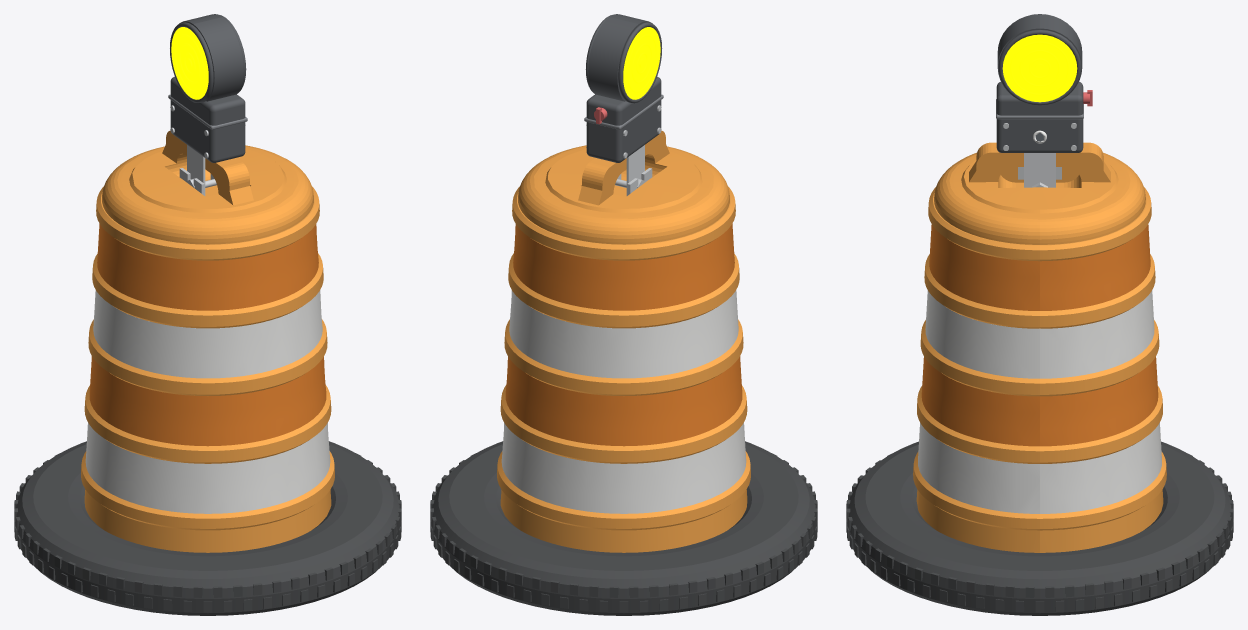
Rendered from traffic-drum-36in.glb.
3 views of the same model, side by side, from view 1: azimuth 30°, elevation 25°; view 2: azimuth 150°, elevation 25°; view 3: azimuth 270°, elevation 25° (orthographic).
Visible parts, largest first — view 1: drum_body, ballast_ring, stripe_2_white, stripe_1_orange, light_case, amber_lens, light_clamp; view 2: drum_body, ballast_ring, stripe_2_white, stripe_1_orange, light_case, amber_lens, light_clamp; view 3: drum_body, ballast_ring, stripe_2_white, stripe_1_orange, light_case, amber_lens, light_clamp.
Part boxes in pixels (<box>): drum_body: <box>81,130,334,552</box>; ballast_ring: <box>14,441,401,615</box>; stripe_2_white: <box>85,290,330,513</box>; stripe_1_orange: <box>89,223,326,446</box>; light_case: <box>170,14,246,162</box>; amber_lens: <box>171,27,208,99</box>; light_clamp: <box>187,145,214,195</box>; drum_body: <box>497,130,750,552</box>; ballast_ring: <box>430,441,817,615</box>; stripe_2_white: <box>501,290,746,513</box>; stripe_1_orange: <box>505,223,742,446</box>; light_case: <box>585,14,662,162</box>; amber_lens: <box>623,27,660,99</box>; light_clamp: <box>617,145,644,195</box>; drum_body: <box>913,142,1166,552</box>; ballast_ring: <box>846,441,1233,615</box>; stripe_2_white: <box>918,130,1161,513</box>; stripe_1_orange: <box>921,224,1158,446</box>; light_case: <box>996,14,1083,152</box>; amber_lens: <box>1002,34,1077,102</box>; light_clamp: <box>1024,153,1055,187</box>.
Size of the model in its own units: 0.914 by 1.34 by 0.914.
